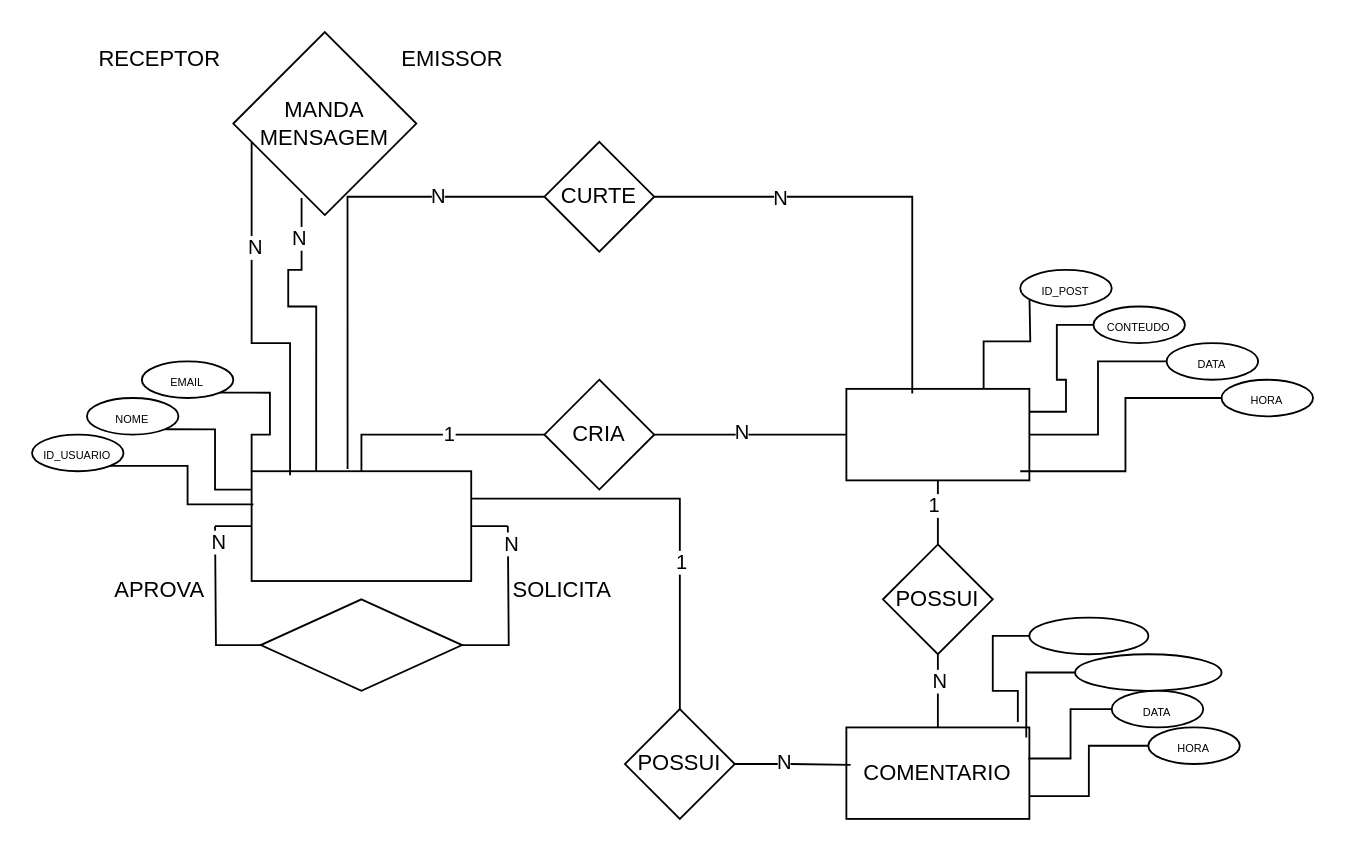
The diagram is 1345 pixels wide and 851 high, and some of its shapes have lost their labels. The centre of each missing label's shape, as x and y in pixels:
FAZ AMIZADE: the point at 360,644
ID_COMANTERIO: the point at 1088,635
POST: the point at 937,433
TEXTO_COMENTARIO: the point at 1147,671
USUARIO: the point at 360,525
